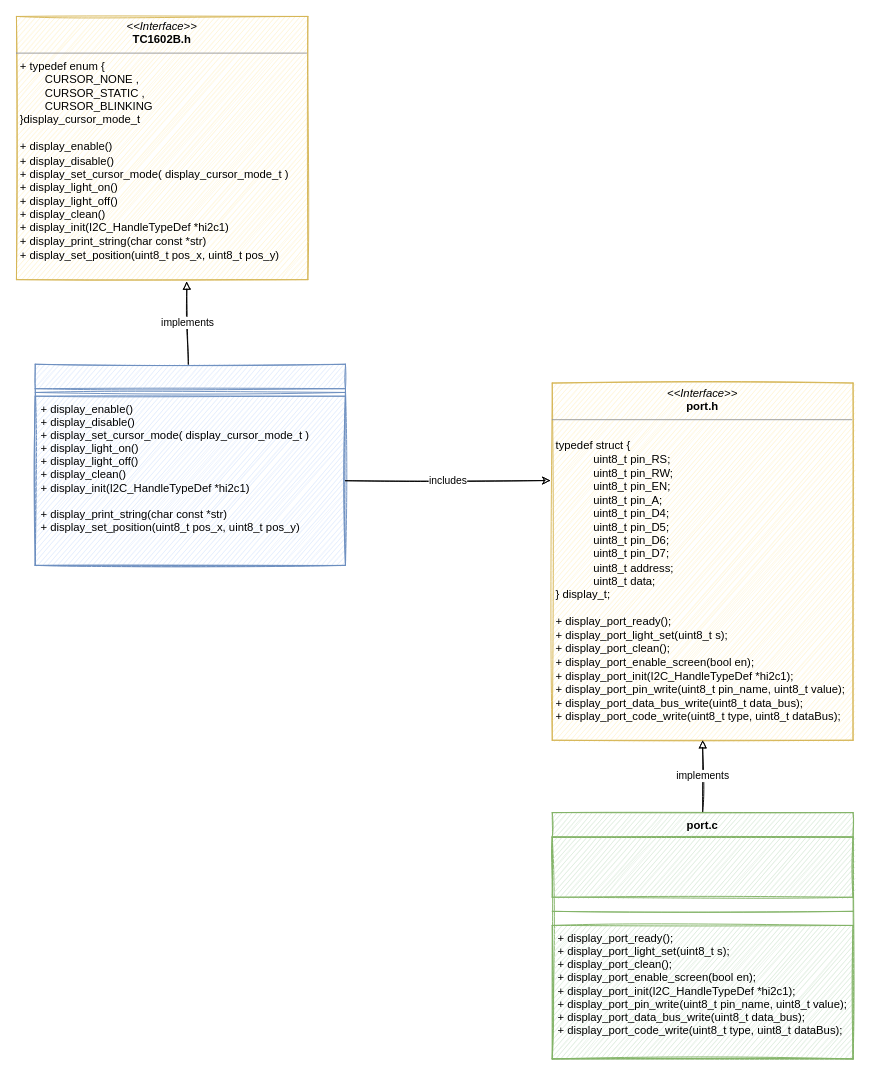
This 870x1078 diagram has some shape labels left out. Each missing label, with the box of its shape:
- i2c_handler : I2C_HandleTypeDef - display_connector : display_t: (551, 836, 853, 897)
TC1602B.c: (34, 363, 345, 565)
